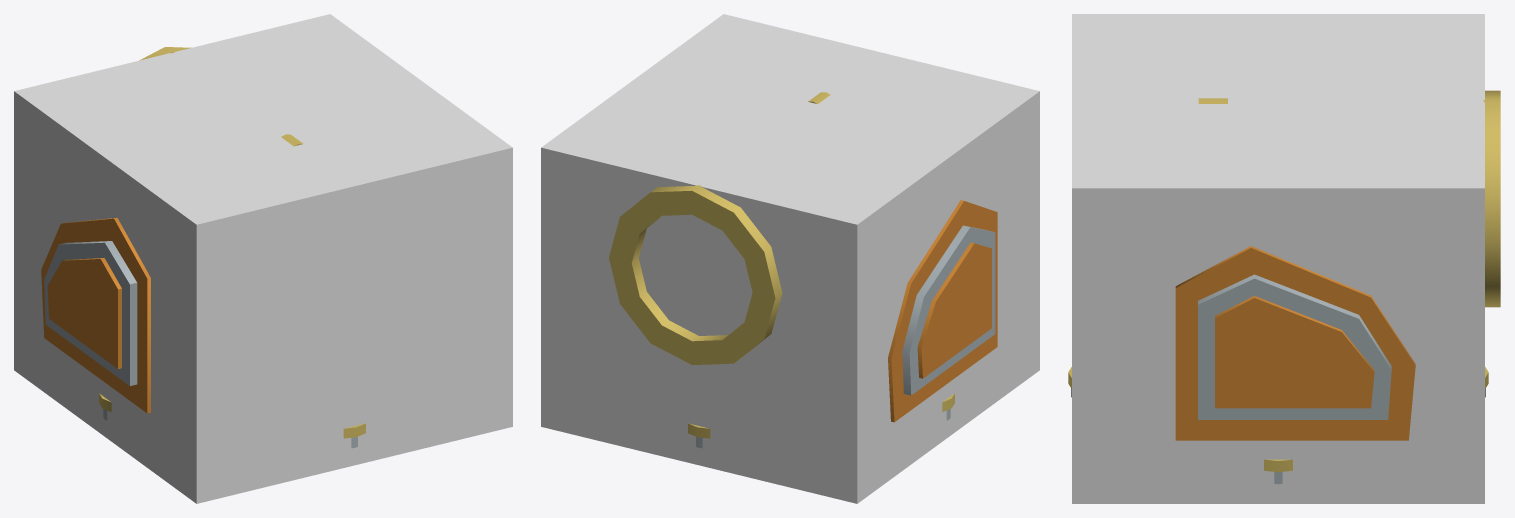
File: cannon.glb
The picture shows the model from 3 angles, left to right: view 1: azimuth 30°, elevation 25°; view 2: azimuth 150°, elevation 25°; view 3: azimuth 270°, elevation 25°; orthographic projection. The views are drawn at different scales.
Visible parts, largest first — view 1: COL_BOX_01.002, upgrade_cannon_l7_base, upgrade_cannon_l3_base; view 2: COL_BOX_01.002, upgrade_cannon_l6_barrel, upgrade_cannon_l7_base, upgrade_cannon_l3_base; view 3: COL_BOX_01.002, upgrade_cannon_l7_base, upgrade_cannon_l3_base, upgrade_cannon_l6_barrel, upgrade_cannon_l5_base.
Boxes of the visible parts, x1=… form: COL_BOX_01.002: x1=14, y1=14, x2=512, y2=503; upgrade_cannon_l7_base: x1=44, y1=241, x2=137, y2=385; upgrade_cannon_l3_base: x1=41, y1=217, x2=150, y2=413; COL_BOX_01.002: x1=541, y1=14, x2=1039, y2=503; upgrade_cannon_l6_barrel: x1=609, y1=185, x2=782, y2=365; upgrade_cannon_l7_base: x1=902, y1=225, x2=995, y2=395; upgrade_cannon_l3_base: x1=888, y1=200, x2=997, y2=422; COL_BOX_01.002: x1=1072, y1=14, x2=1484, y2=503; upgrade_cannon_l7_base: x1=1198, y1=274, x2=1391, y2=419; upgrade_cannon_l3_base: x1=1175, y1=246, x2=1415, y2=440; upgrade_cannon_l6_barrel: x1=1483, y1=90, x2=1500, y2=307; upgrade_cannon_l5_base: x1=1068, y1=367, x2=1488, y2=472.
Size of the model in its own units: 1.32 by 1.02 by 1.26.
